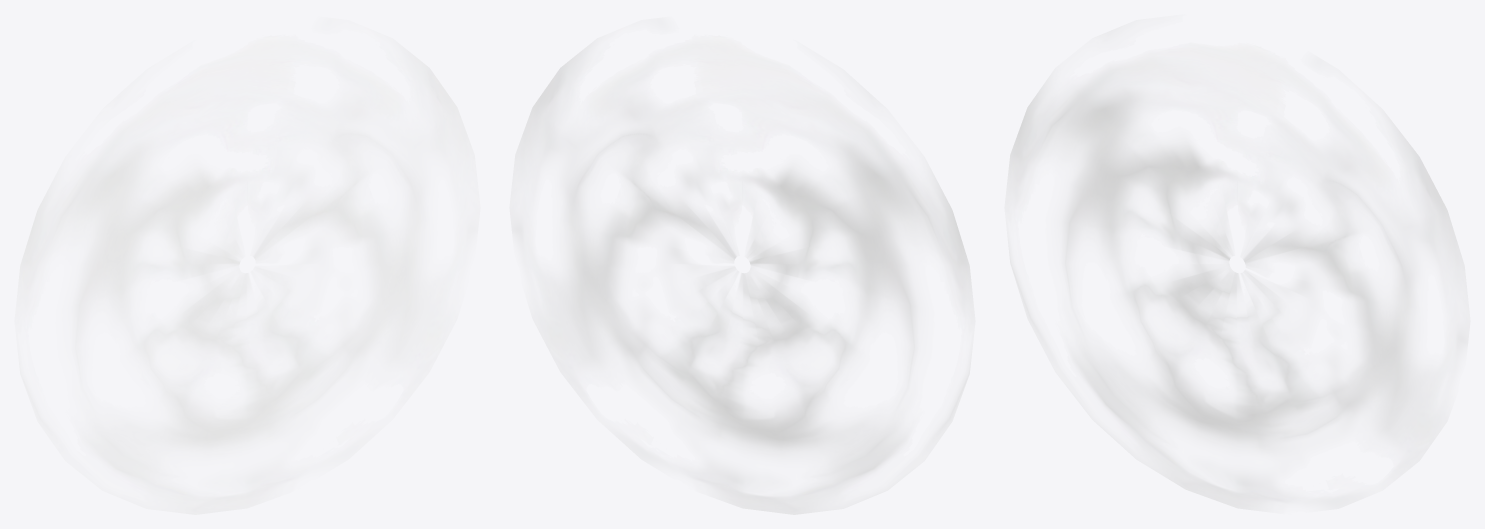
File: fx_c100_proj_hit__fx_common_shape_sphere_02.glb
3 renders of one model, left to right at view 1: azimuth 30°, elevation 25°; view 2: azimuth 150°, elevation 25°; view 3: azimuth 330°, elevation 25°, orthographic.
Parts seen in each view (by area): view 1: fx_c100_proj_hit; view 2: fx_c100_proj_hit; view 3: fx_c100_proj_hit.
Boxes of the visible parts, left/top/right/bottom form: fx_c100_proj_hit: left=15, top=38, right=479, bottom=514; fx_c100_proj_hit: left=510, top=38, right=974, bottom=514; fx_c100_proj_hit: left=1005, top=22, right=1469, bottom=511.
Bounding box in the file's own units: 0.7184 × 0.7184 × 0.
1 material, 1 textured.
